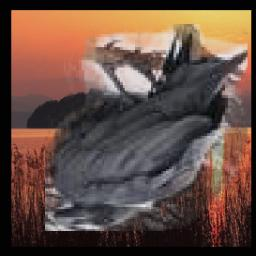Crow: (45, 24, 248, 231)
